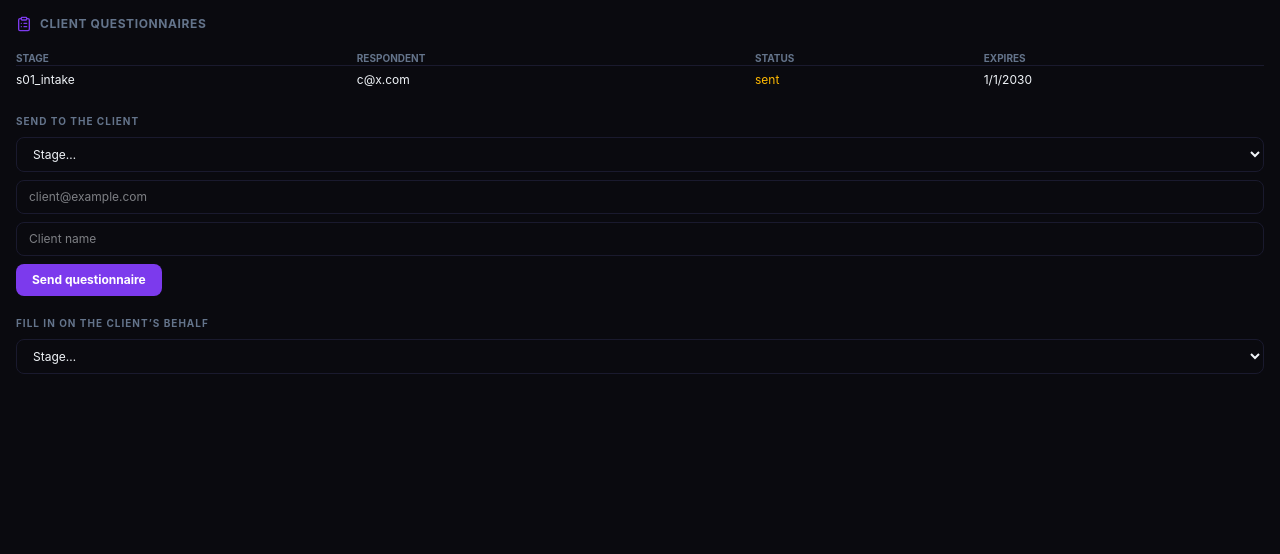
QuestionnairePanel › fills on behalf from the stage questions and shows the server refusal
Select "Project Setup" in the dropdown named "Stage to fill" at (640, 357), box [16,339,1264,374]
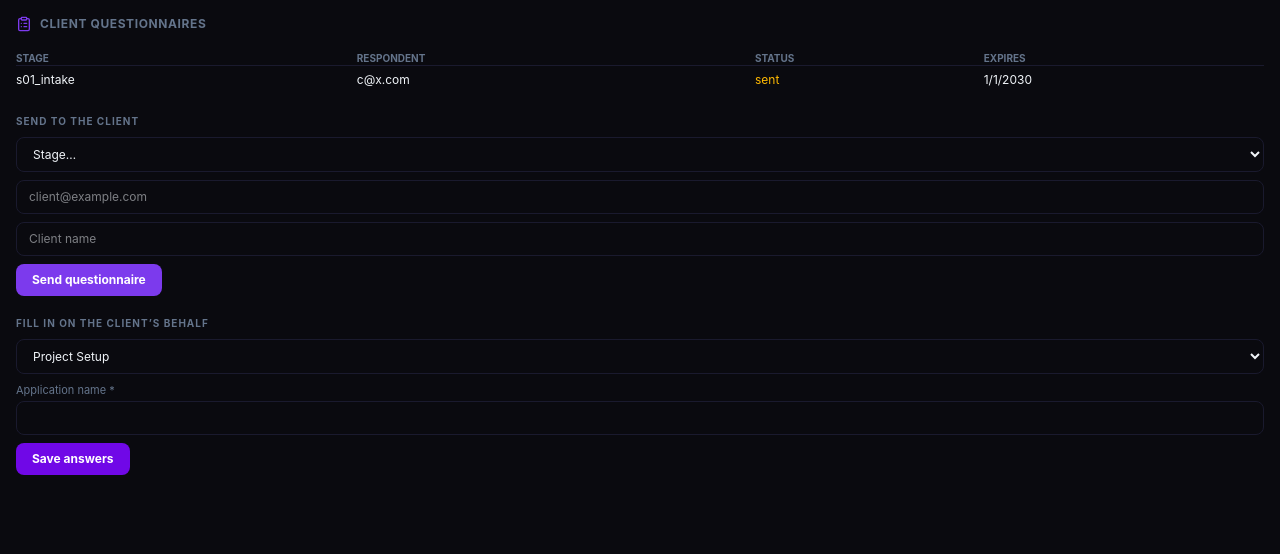
Type "Acme" into the field labelled "Application name *" at (640, 418), box [16,401,1264,435]
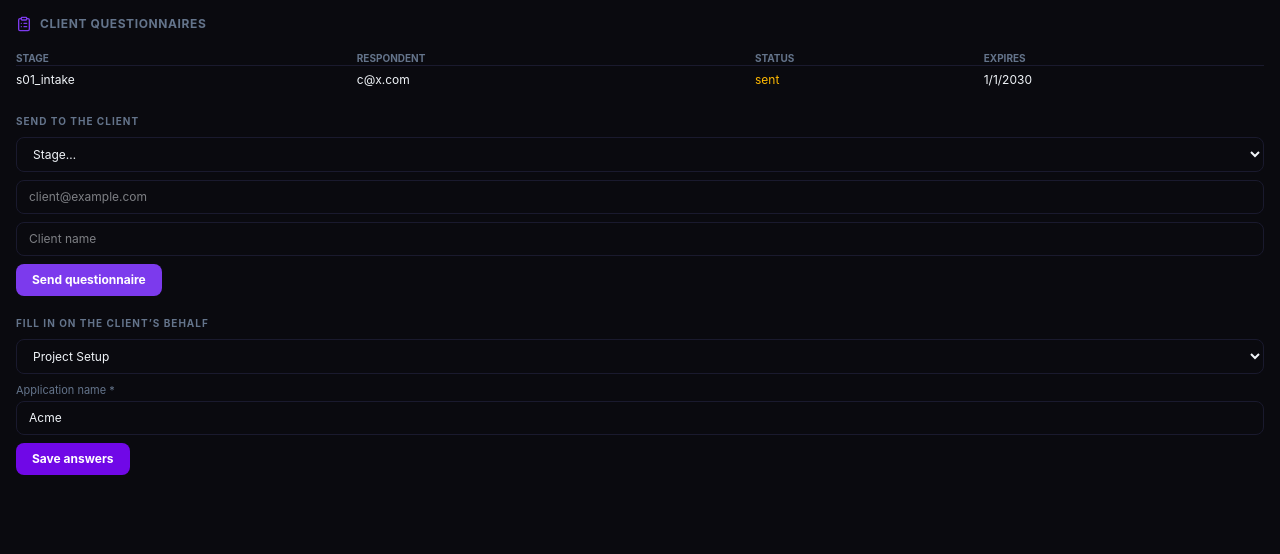
Click the button "Save answers" at (73, 459), box [16,443,130,475]
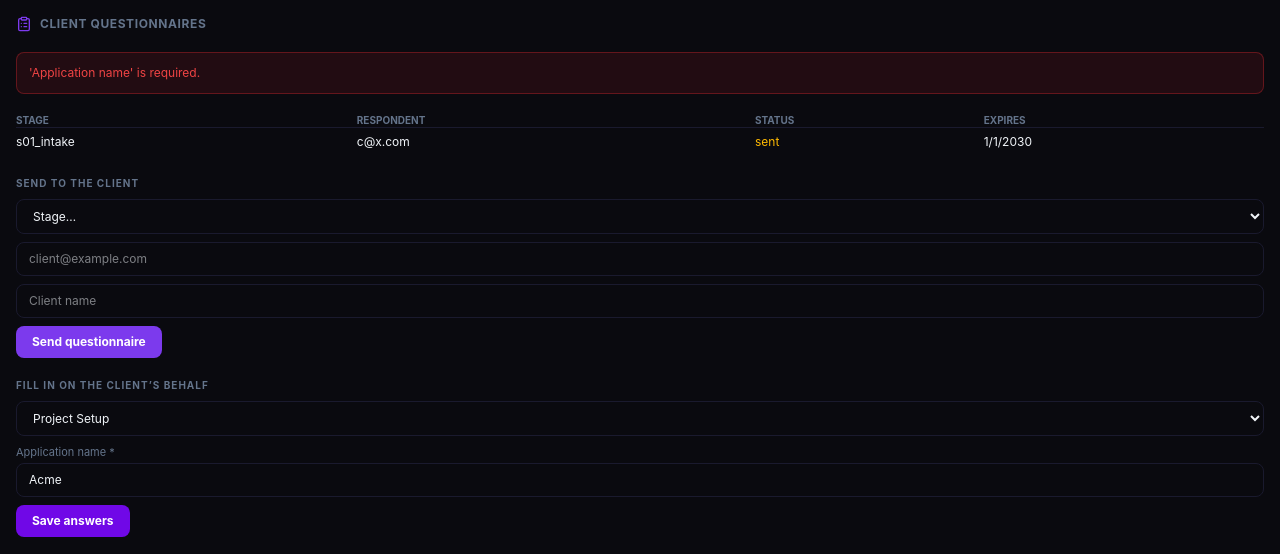
Expected: the message shows "is required", [29,65,200,80]
